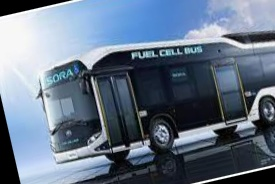bus: (28, 3, 275, 179)
